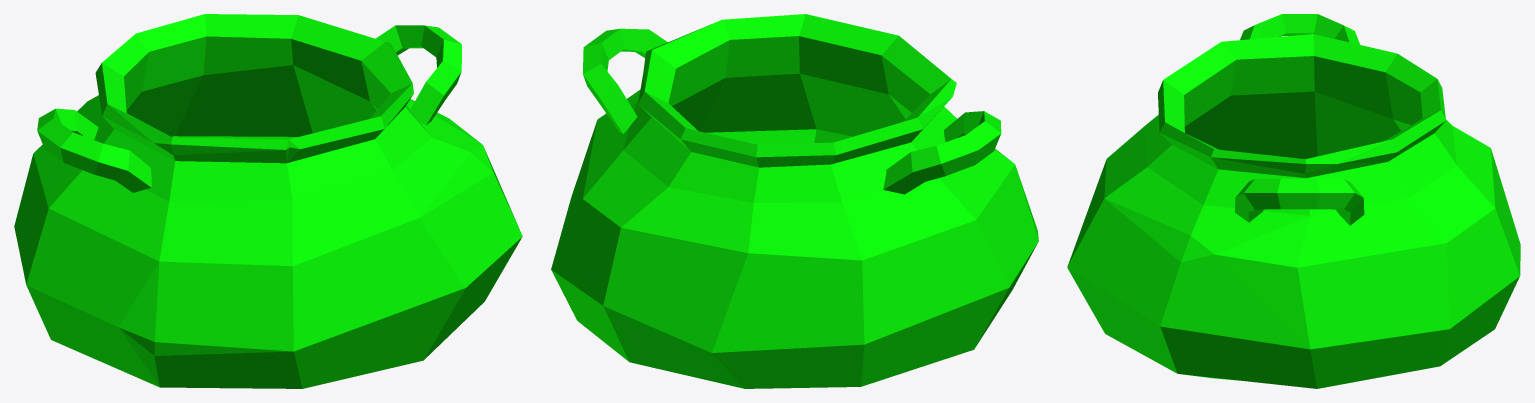
File: SM_Vase_Short_Fantasy.fbx
3 renders of one model, left to right at view 1: azimuth 30°, elevation 25°; view 2: azimuth 150°, elevation 25°; view 3: azimuth 270°, elevation 25°, orthographic. The views are drawn at different scales.
Visible parts, largest first — view 1: vase-short-fantasy; view 2: vase-short-fantasy; view 3: vase-short-fantasy.
Part boxes in pixels (x1,y1,x2,y2): vase-short-fantasy: (14, 14, 522, 388); vase-short-fantasy: (551, 14, 1038, 388); vase-short-fantasy: (1067, 14, 1520, 388).
Size of the model in its own units: 0.5864 by 0.316 by 0.565.
